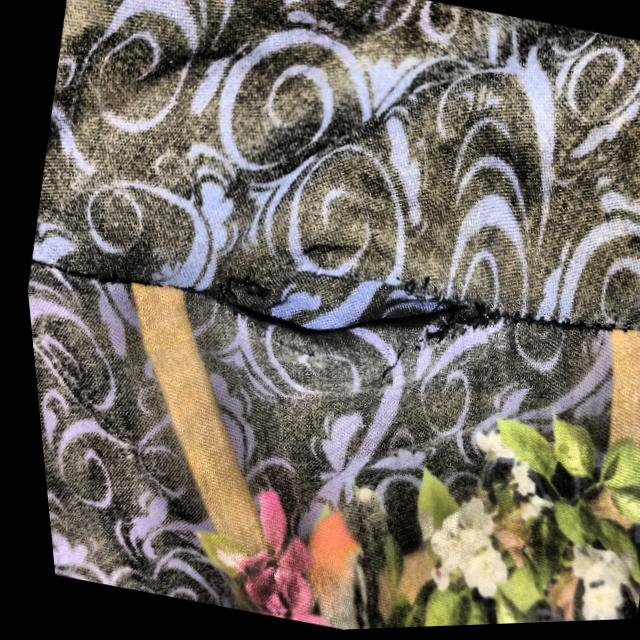seam: (144, 195, 519, 431)
